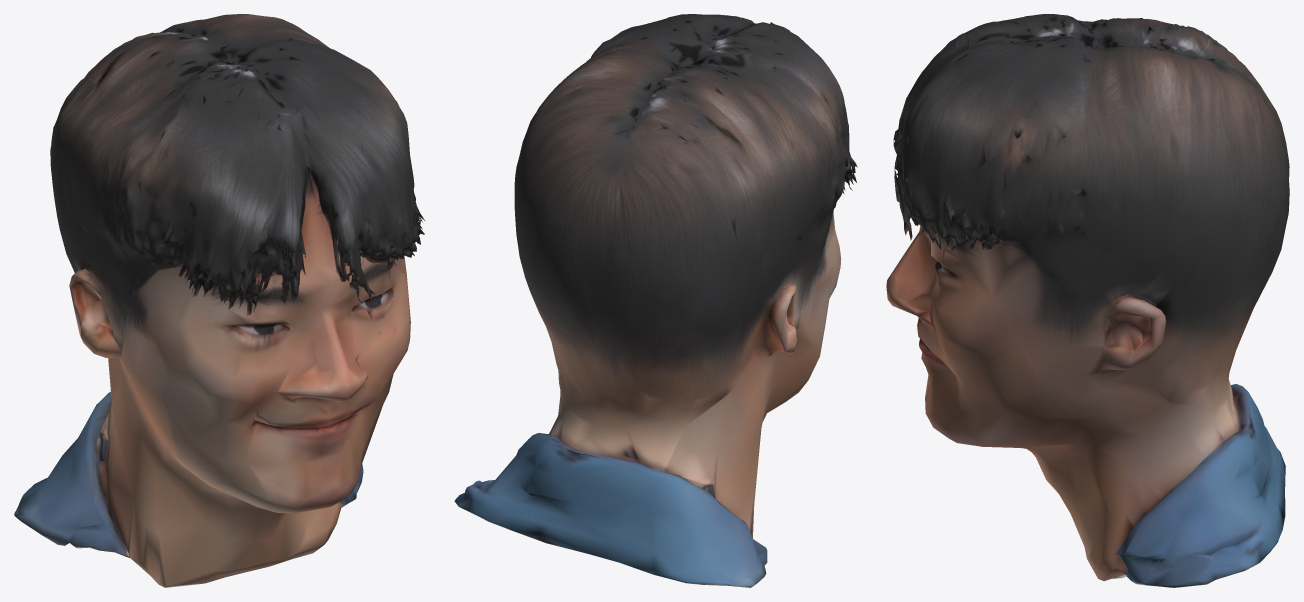
File: sjhead.glb
3 renders of one model, left to right at view 1: azimuth 30°, elevation 25°; view 2: azimuth 150°, elevation 25°; view 3: azimuth 270°, elevation 25°, orthographic. The views are drawn at different scales.
Size of the model in its own units: 1.27 by 2 by 1.43.
Materials: 1 (1 with a texture image).
